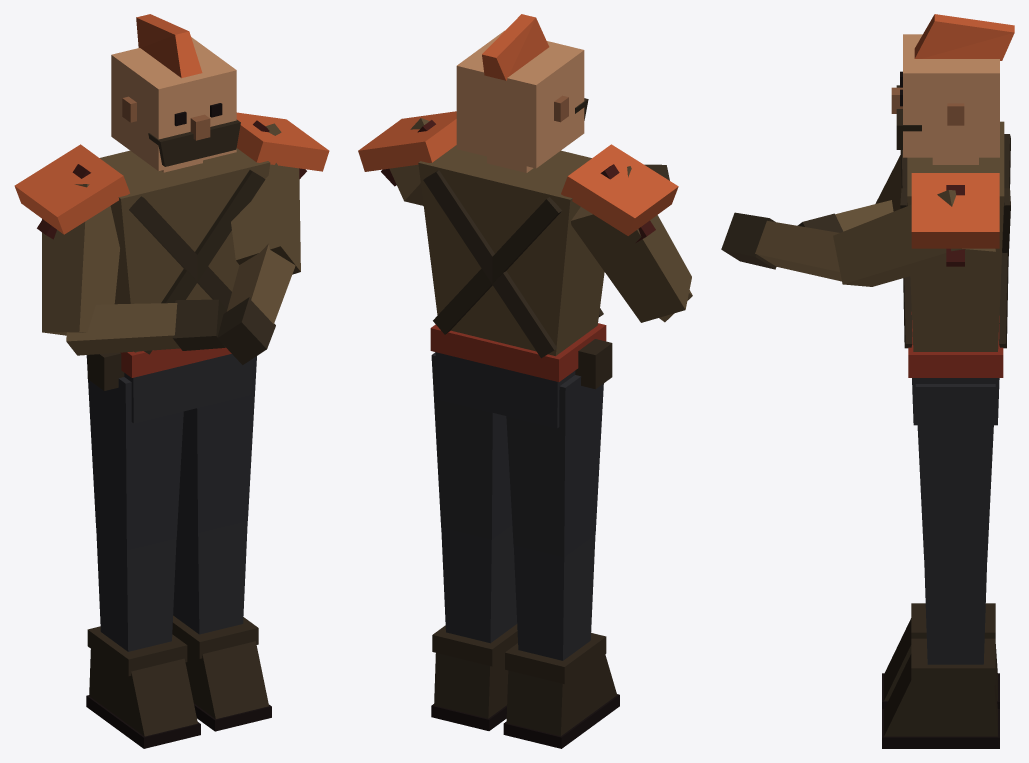
Rendered from raider.glb.
The picture shows the model from 3 angles, left to right: view 1: azimuth 30°, elevation 25°; view 2: azimuth 150°, elevation 25°; view 3: azimuth 270°, elevation 25°; orthographic projection. The views are drawn at different scales.
Parts seen in each view (by area): view 1: torso, leg_r_lower, head, leg_l_lower, leg_r, leg_l, arm_r, arm_r_lower, pauldron_r, arm_l_lower, arm_l, pauldron_l; view 2: torso, leg_r_lower, head, leg_l_lower, leg_r, leg_l, arm_r, pauldron_r, pauldron_l, arm_l; view 3: leg_l_lower, torso, head, leg_l, pauldron_l, arm_l, arm_l_lower, leg_r_lower, arm_r_lower, arm_r.
Part boxes in pixels (box(x1,y1,x2,y2)): torso: box(87, 148, 270, 423); leg_r_lower: box(86, 528, 200, 748); head: box(111, 14, 240, 172); leg_l_lower: box(172, 519, 271, 731); leg_r: box(86, 355, 183, 550); leg_l: box(178, 356, 256, 532); arm_r: box(42, 184, 119, 335); arm_r_lower: box(66, 299, 226, 355); pauldron_r: box(14, 144, 129, 239); arm_l_lower: box(217, 243, 295, 364); arm_l: box(231, 123, 300, 274); pauldron_l: box(236, 112, 329, 178); torso: box(418, 145, 612, 428); leg_r_lower: box(503, 535, 619, 748); head: box(456, 14, 588, 172); leg_l_lower: box(431, 525, 517, 730); leg_r: box(506, 375, 603, 557); leg_l: box(431, 352, 512, 539); arm_r: box(571, 166, 691, 322); pauldron_r: box(561, 144, 678, 242); pauldron_l: box(358, 111, 456, 186); arm_l: box(389, 118, 429, 205); leg_l_lower: box(882, 560, 999, 748); torso: box(900, 121, 1010, 425); head: box(891, 14, 1014, 164); leg_l: box(915, 384, 995, 559); pauldron_l: box(911, 173, 999, 266); arm_l: box(833, 190, 995, 286); arm_l_lower: box(721, 212, 841, 281); leg_r_lower: box(882, 603, 999, 708); arm_r_lower: box(797, 200, 893, 232); arm_r: box(875, 155, 901, 211).
Size of the model in its own units: 0.7958 by 1.83 by 0.6962.
